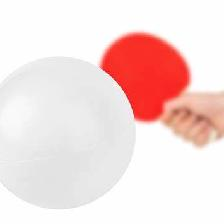WhiteBall: (0, 57, 134, 209)
